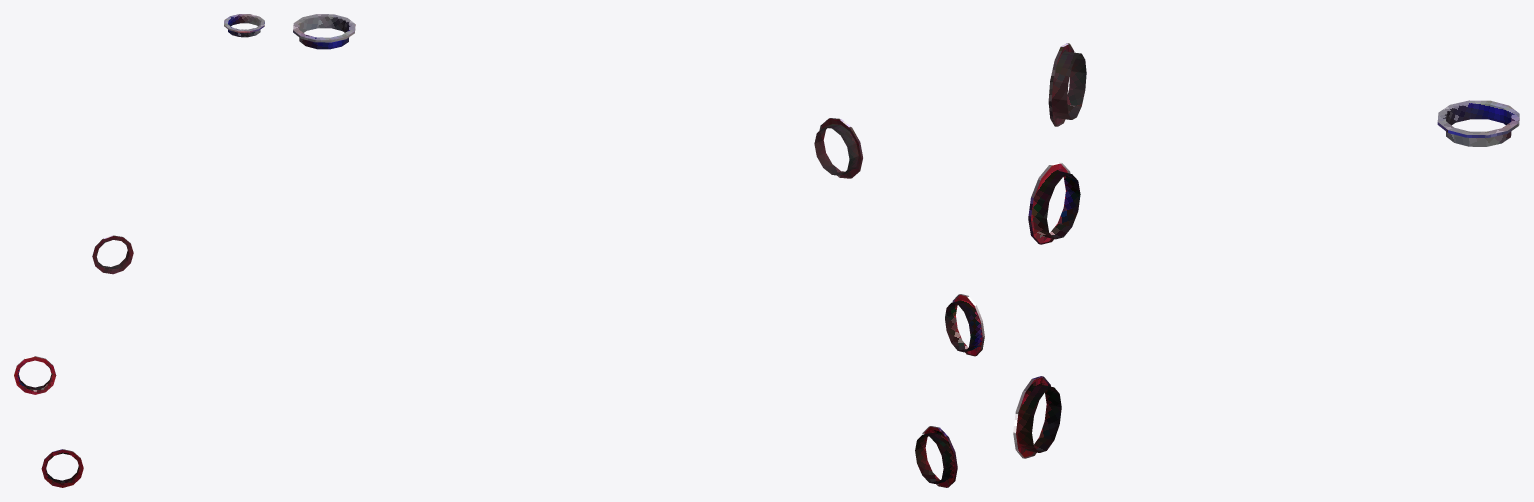
The model's file is transfert_boxes_rings.glb.
3 renders of one model, left to right at view 1: azimuth 30°, elevation 25°; view 2: azimuth 150°, elevation 25°; view 3: azimuth 270°, elevation 25°, orthographic. The views are drawn at different scales.
Parts seen in each view (by area): view 1: transfert_boxes_rings; view 2: transfert_boxes_rings; view 3: transfert_boxes_rings.
Boxes of the visible parts, x1,y1,x2,y2 form: transfert_boxes_rings: [14, 14, 264, 487]; transfert_boxes_rings: [293, 14, 984, 487]; transfert_boxes_rings: [1013, 43, 1519, 458].
Bounding box in the file's own units: 2.3 × 1.96 × 1.44.
1 material, 1 textured.
